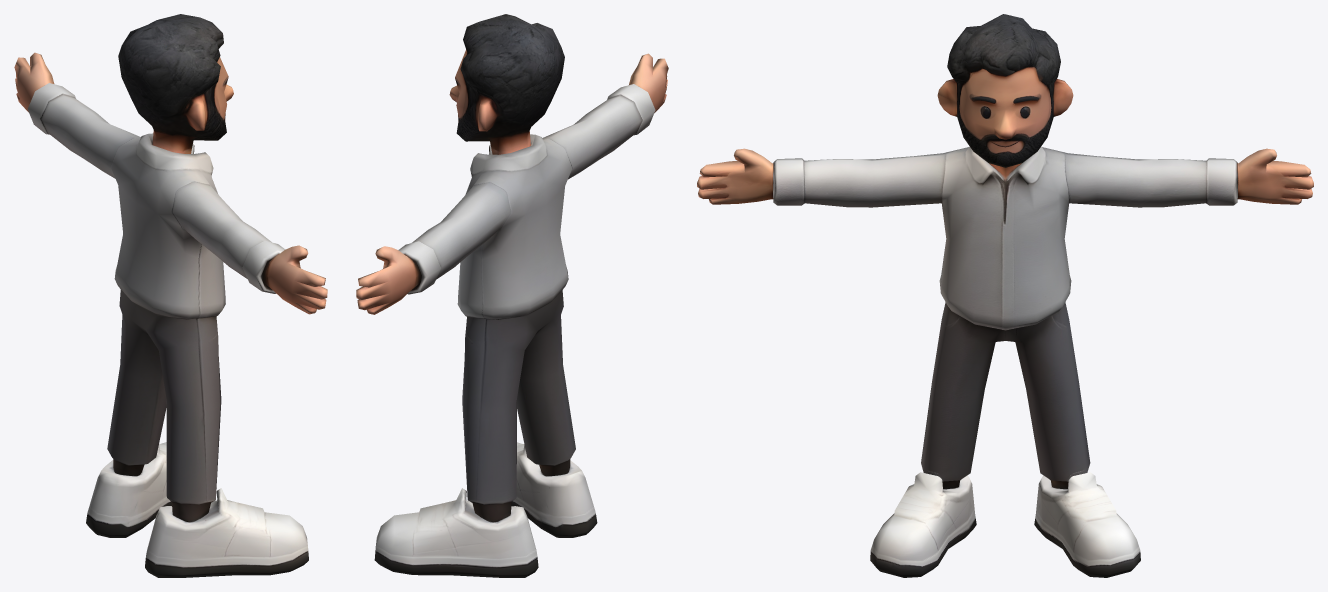
3 renders of one model, left to right at view 1: azimuth 30°, elevation 25°; view 2: azimuth 150°, elevation 25°; view 3: azimuth 270°, elevation 25°, orthographic.
Parts seen in each view (by area): view 1: tripo_node_b17d691c-7cff-4dd5-8d68-060ee443d545; view 2: tripo_node_b17d691c-7cff-4dd5-8d68-060ee443d545; view 3: tripo_node_b17d691c-7cff-4dd5-8d68-060ee443d545.
Part boxes in pixels (<box>): tripo_node_b17d691c-7cff-4dd5-8d68-060ee443d545: <box>14,14,327,577</box>; tripo_node_b17d691c-7cff-4dd5-8d68-060ee443d545: <box>356,14,668,577</box>; tripo_node_b17d691c-7cff-4dd5-8d68-060ee443d545: <box>697,14,1313,577</box>.
Bounding box in the file's own units: 0.2544 × 0.9321 × 0.9995.
1 material, 1 textured.
